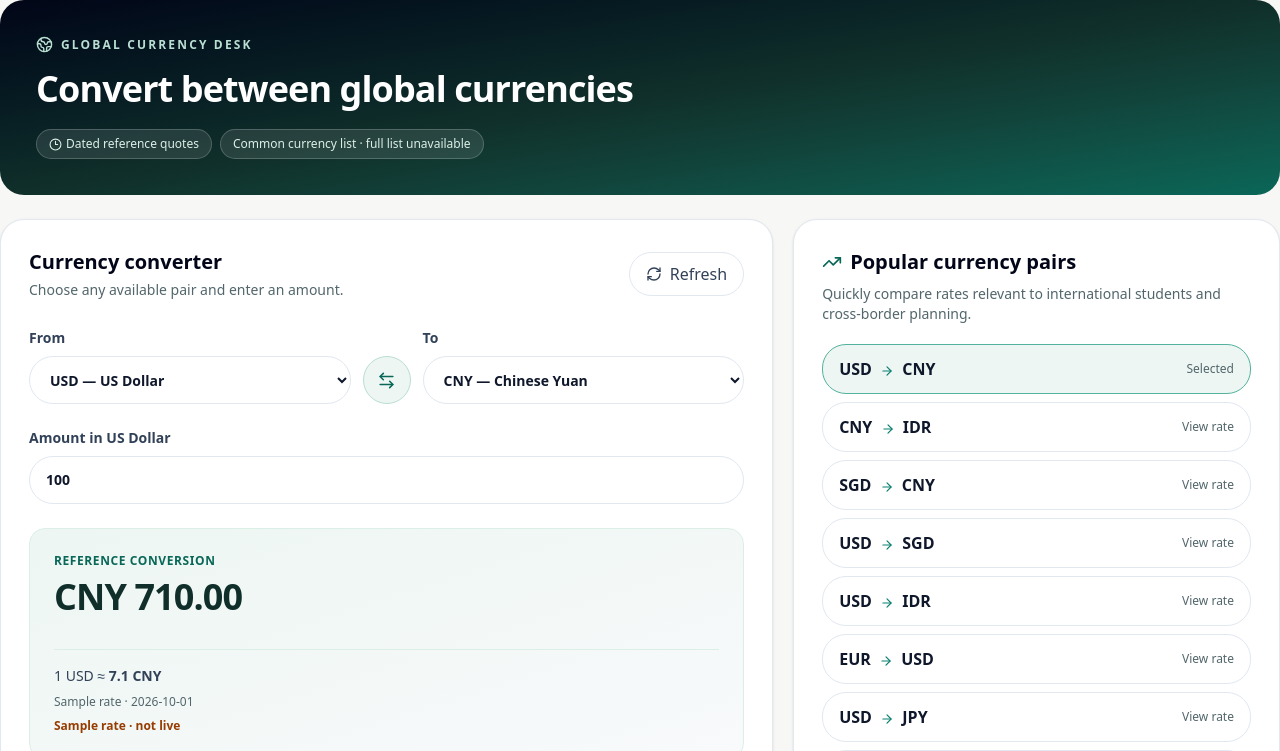
Test: handles identical currencies during a provider outage without labelling it a sample quote
Expected: the text "Sample rate · not live" is shown, [54,717,180,734]
Select "USD — US Dollar" in the dropdown named "To currency": (583, 380) [423,356,744,404]
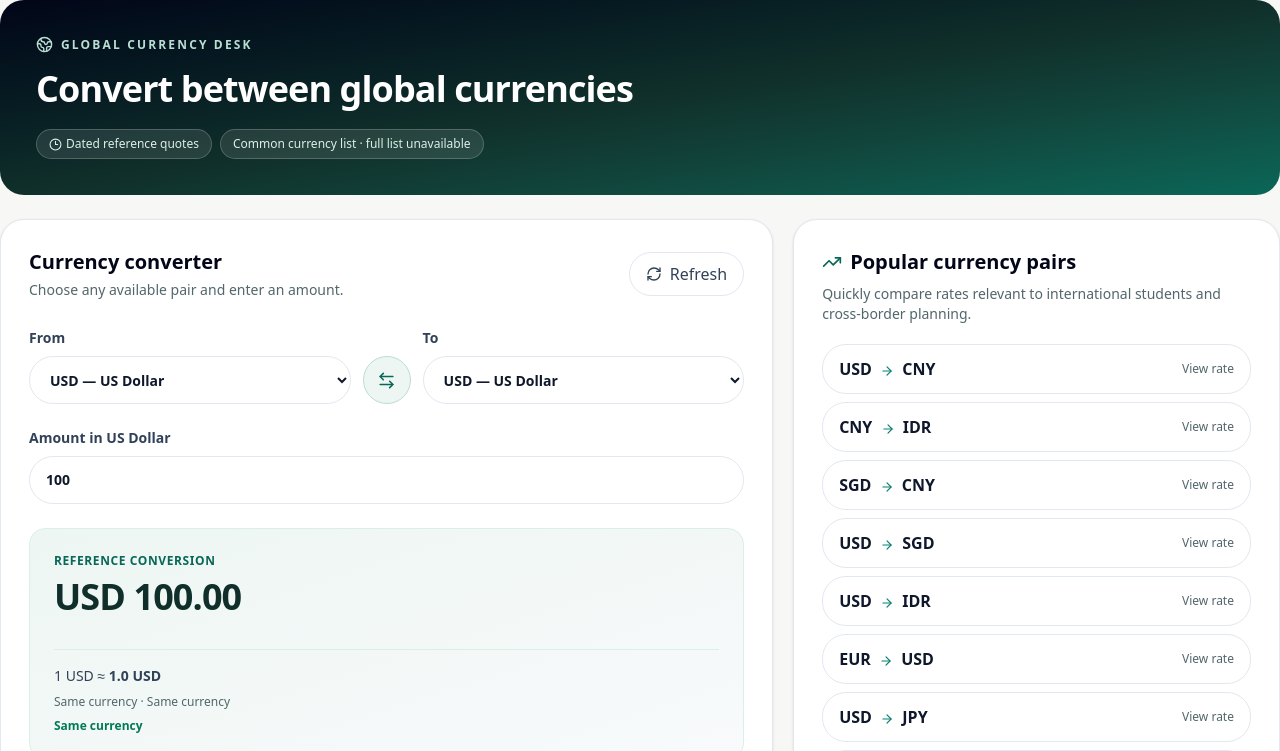
Expected: the text "USD 100.00" is shown, [54,572,241,621]
Expected: the text "Sample rate · not live" is gone
